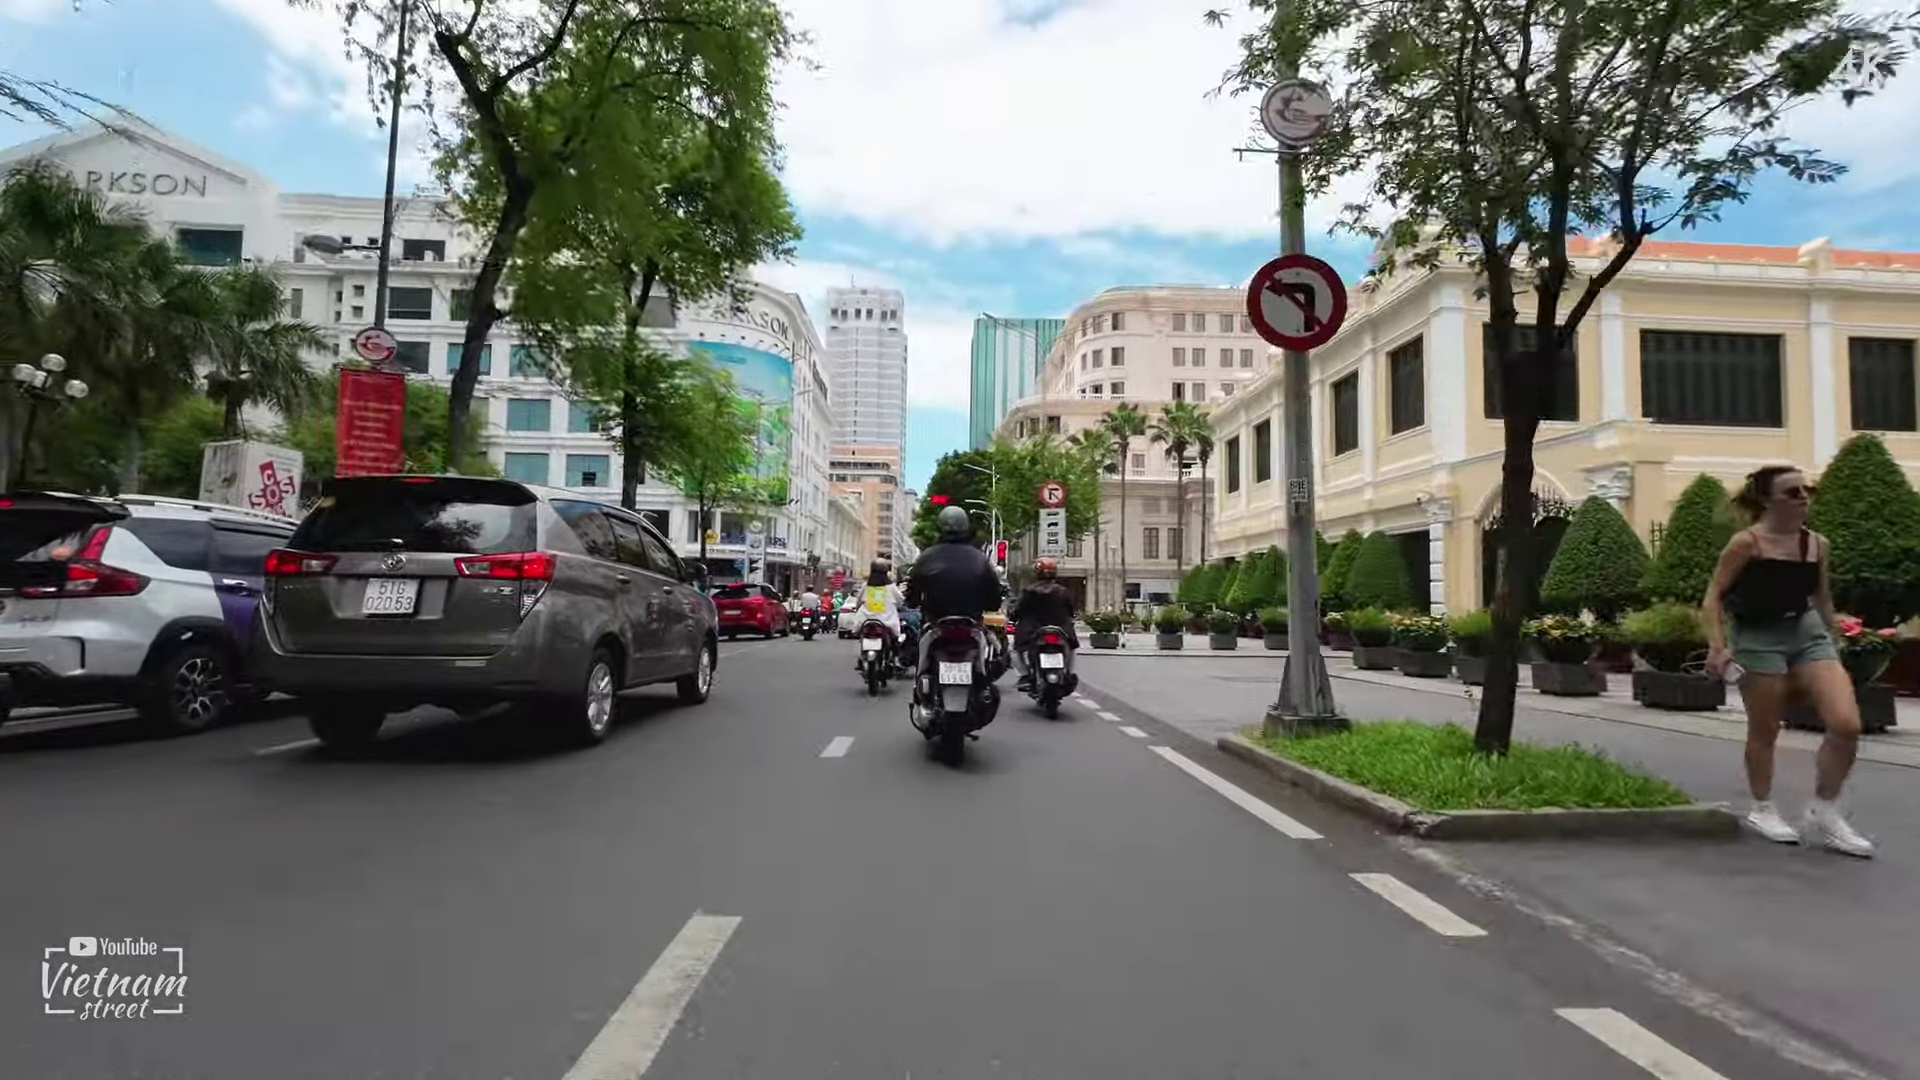cam_re_phai: (1036, 479, 1067, 509)
cam_re_trai: (1242, 251, 1352, 355)
